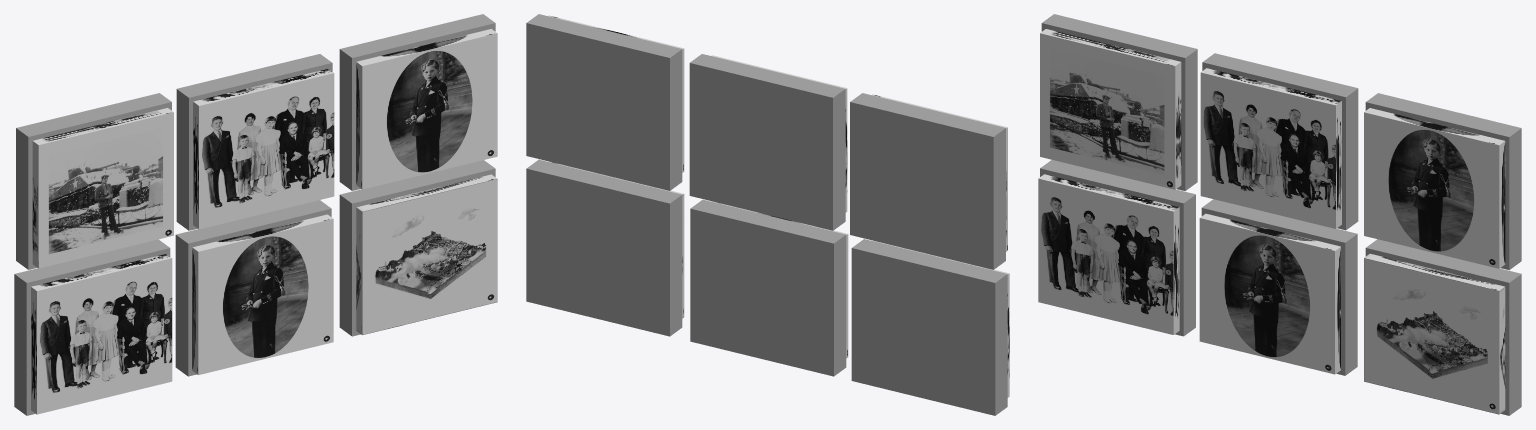
Rendered from PictureWall.glb.
3 views of the same model, side by side, from view 1: azimuth 30°, elevation 25°; view 2: azimuth 150°, elevation 25°; view 3: azimuth 330°, elevation 25° (orthographic).
Visible parts, largest first — view 1: Cube.9, Cube.5, Cube.3, Cube.11, Cube.7, Cube.2, Cube.4, Cube.6, Cube.8, Cube.1, Cube, Cube.10; view 2: Cube.8, Cube.6, Cube.4, Cube.10, Cube.1, Cube, Cube.3, Cube.5, Cube.11, Cube.7, Cube.9, Cube.2; view 3: Cube.9, Cube.11, Cube.7, Cube.3, Cube.2, Cube.5, Cube.4, Cube.1, Cube, Cube.6, Cube.8, Cube.10.
Boxes of the visible parts, <box> form: Cube.9: <box>192,214,333,374</box>; Cube.5: <box>356,29,497,189</box>; Cube.3: <box>193,68,334,229</box>; Cube.11: <box>31,254,172,414</box>; Cube.7: <box>356,174,497,334</box>; Cube.2: <box>32,108,173,268</box>; Cube.4: <box>339,14,495,190</box>; Cube.6: <box>339,160,495,336</box>; Cube.8: <box>175,200,331,376</box>; Cube.1: <box>176,54,332,230</box>; Cube: <box>16,93,171,269</box>; Cube.10: <box>14,239,170,415</box>; Cube.8: <box>690,199,846,376</box>; Cube.6: <box>526,159,682,336</box>; Cube.4: <box>526,14,682,190</box>; Cube.10: <box>851,239,1007,415</box>; Cube.1: <box>689,54,845,230</box>; Cube: <box>850,93,1005,269</box>; Cube.3: <box>711,55,847,212</box>; Cube.5: <box>548,15,684,172</box>; Cube.11: <box>873,241,1009,397</box>; Cube.7: <box>548,161,684,318</box>; Cube.9: <box>712,201,848,358</box>; Cube.2: <box>872,94,1007,251</box>; Cube.9: <box>1199,213,1340,374</box>; Cube.11: <box>1038,174,1179,334</box>; Cube.7: <box>1364,253,1505,414</box>; Cube.3: <box>1200,68,1341,228</box>; Cube.2: <box>1040,29,1181,189</box>; Cube.5: <box>1364,108,1505,268</box>; Cube.4: <box>1365,93,1521,270</box>; Cube.1: <box>1202,53,1358,230</box>; Cube: <box>1041,14,1197,190</box>; Cube.6: <box>1365,239,1521,415</box>; Cube.8: <box>1201,199,1357,375</box>; Cube.10: <box>1040,160,1195,336</box>.
Bounding box in the file's own units: 19.54 × 11.09 × 1.33.
5 materials, 4 textured.
